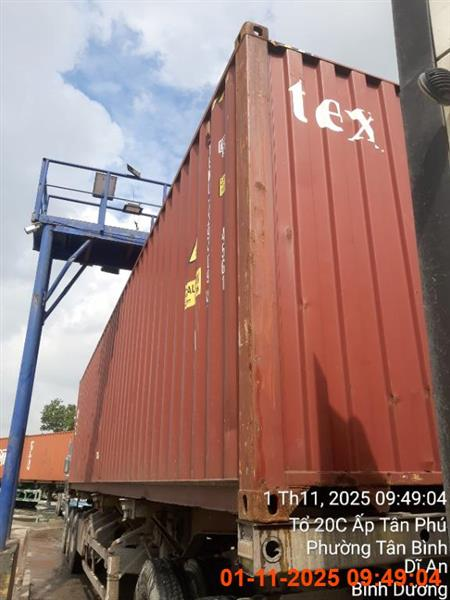hole: (22, 14, 449, 599)
